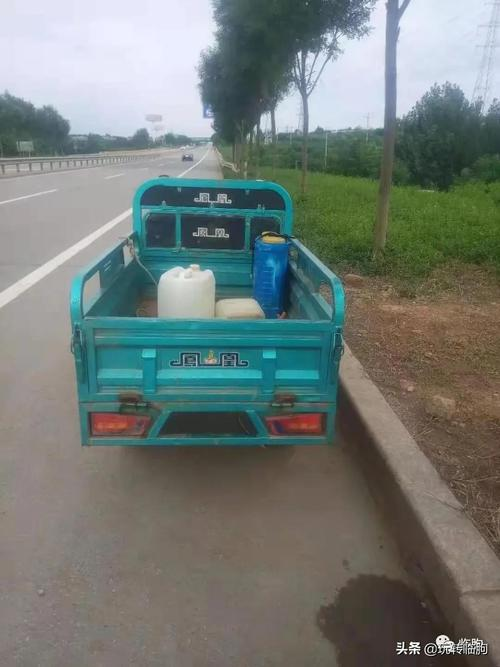empty: (69, 137, 348, 458)
